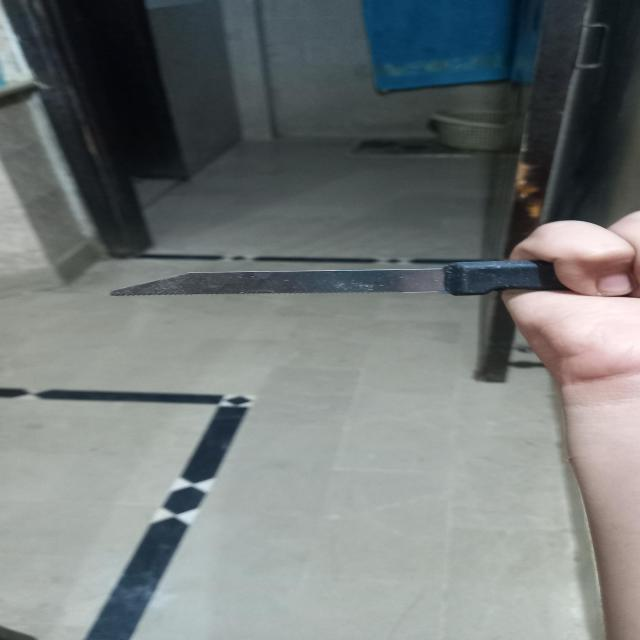Knife: (107, 259, 562, 297)
Person: (504, 210, 640, 640)
